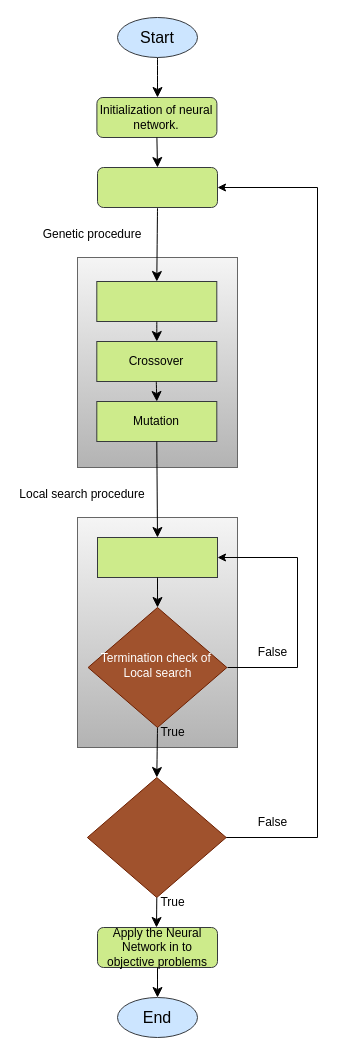
The diagram is 343 pixels wide and 1055 high, and some of its shapes have lost their labels. Here are the shapes that lost their labels. From the top down, the box of each, then its label:
(96, 166, 218, 208): Compute the fitness Array
(96, 280, 217, 322): Selection
(96, 536, 218, 578): Apply Local Search procedure
(86, 776, 226, 898): Termination check of overal Algorithm
